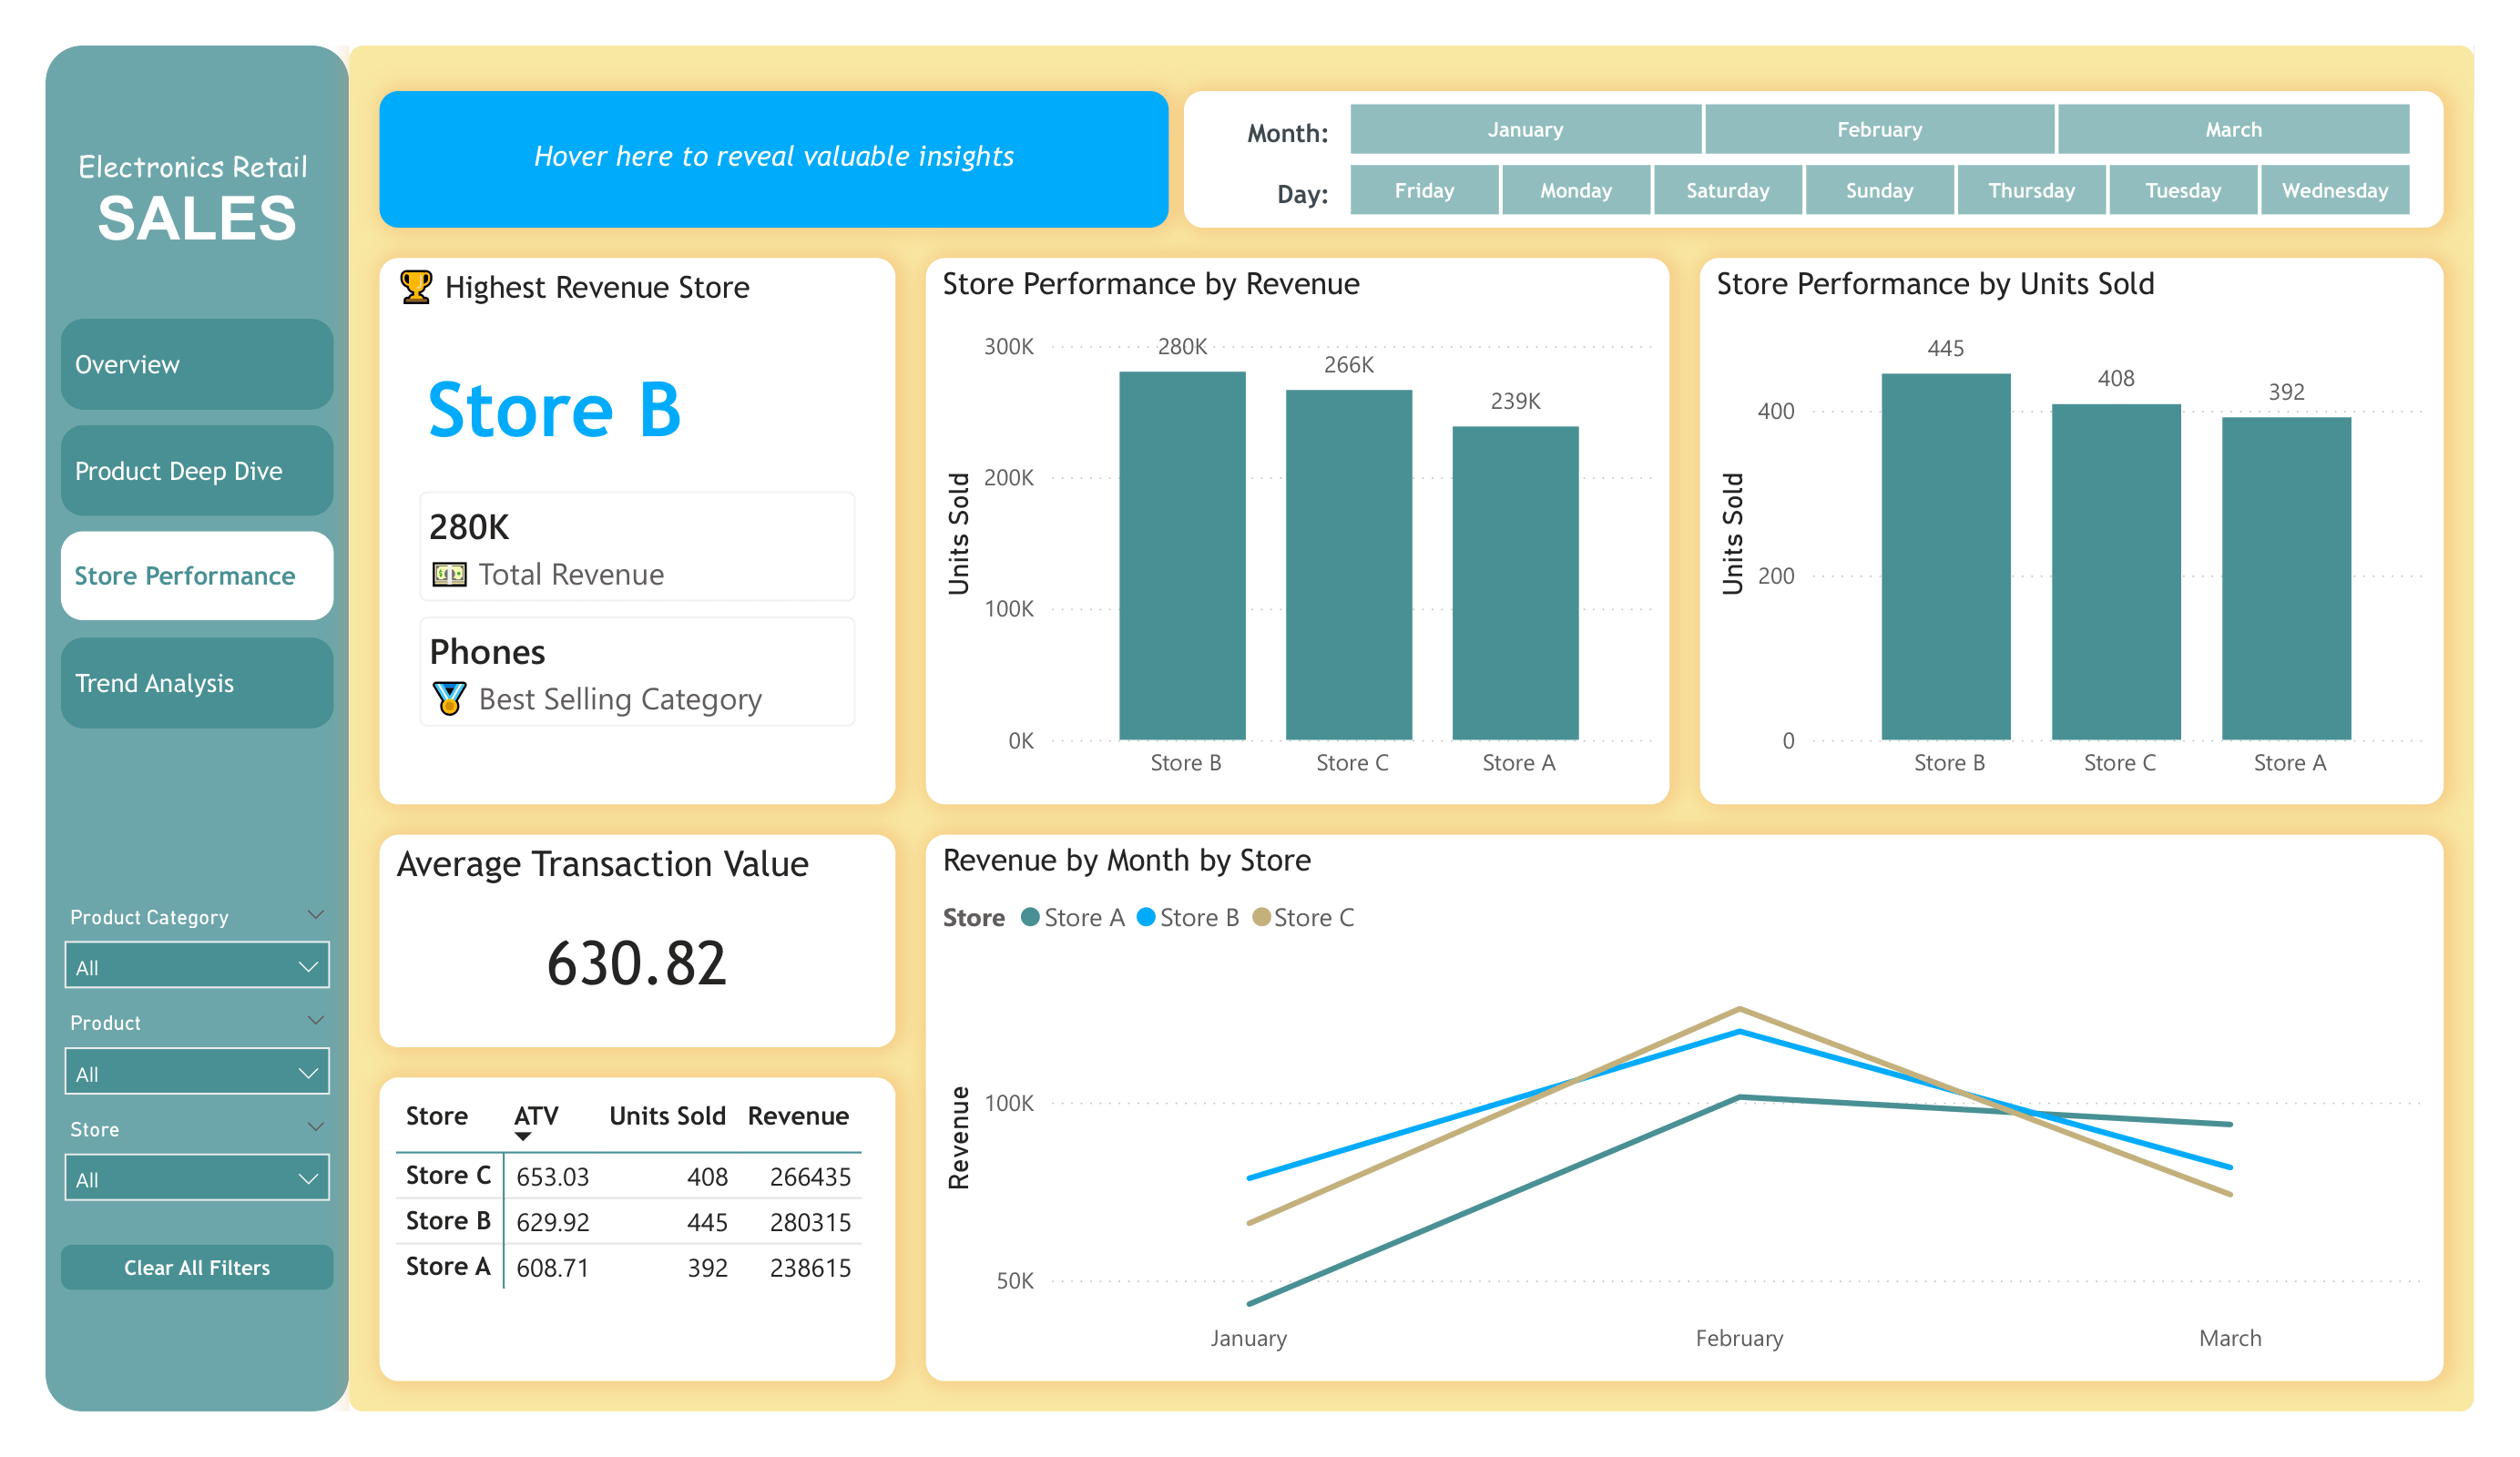

The page's visual inventory and layout, read from the dashboard file:
{"tool":"powerbi","page":{"name":"Store Performance","canvas":[1280,720],"ordinal":2},"visuals":[{"type":"group","id":"g1","title":"Group 1","box":[0,0,1280,720],"z":0},{"type":"shape","box":[0,0,160,720],"z":0,"group":"g1"},{"type":"shape","box":[160,0,1120,720],"z":1000,"group":"g1"},{"type":"shape","box":[600,24,664,72],"z":1000,"group":"g2"},{"type":"actionButton","box":[8,256,144,47],"z":1000},{"type":"actionButton","box":[8,200,144,48],"z":2000},{"type":"actionButton","box":[8,312,144,48],"z":3000},{"type":"slicer","fields":{"Values":["Sales_Q12025.Product Category"]},"box":[0,448,160,56],"z":4000},{"type":"slicer","fields":{"Values":["Sales_Q12025.Product"]},"box":[0,504,160,56],"z":5000},{"type":"actionButton","box":[8,144,144,48],"z":6000},{"type":"actionButton","box":[8,632,144,24],"z":7000},{"type":"slicer","fields":{"Values":["Dates.Date.Variation.Date Hierarchy.Month"]},"box":[667.4,23.8,602.5,40],"z":8000,"group":"g2"},{"type":"slicer","fields":{"Values":["Sales_Q12025.Store"]},"box":[0,560,160,56],"z":8000},{"type":"textbox","box":[609.8,31.3,72,32],"z":9000,"group":"g2"},{"type":"clusteredColumnChart","title":"Store Performance by Units Sold","fields":{"Category":["RR-PRAC4 - retail_sales_q1_2025_large.Store"],"Y":["Sales_Q12025.Total Units Sold"]},"box":[872,112,392,288],"z":9000},{"type":"card","title":"Average Transaction Value","fields":{"Values":["Sales_Q12025.Avg Transaction Value"]},"box":[176,416,272,112],"z":10000},{"type":"lineChart","title":"Revenue by Month by Store","fields":{"Category":["Dates.Date.Variation.Date Hierarchy.Month"],"Series":["Sales_Q12025.Store"],"Y":["Sales_Q12025.Total Revenue"]},"box":[464,416,800,288],"z":11000},{"type":"cardVisual","title":"🏆 Highest Revenue Store","fields":{"Data":["Sales_Q12025.Total Revenue","Sales_Q12025.Store's Best Selling Category"],"Rows":["Sales_Q12025.Store"]},"box":[176,112,272,288],"z":12000},{"type":"pivotTable","fields":{"Values":["Sales_Q12025.Avg Transaction Value","Sales_Q12025.Total Units Sold","Sales_Q12025.Total Revenue"],"Rows":["Sales_Q12025.Store"]},"box":[176,544,272,160],"z":13000},{"type":"clusteredColumnChart","title":"Store Performance by Revenue","fields":{"Category":["RR-PRAC4 - retail_sales_q1_2025_large.Store"],"Y":["Sales_Q12025.Total Revenue"]},"box":[464,112,392,288],"z":14000},{"type":"card","fields":{"Values":["Sales_Q12025.InsightHint"]},"box":[176,24,416,72],"z":15000},{"type":"textbox","box":[0,48,160,80],"z":16000},{"type":"group","id":"g2","title":"Group 2","box":[600,23.8,669.9,72.2],"z":17000},{"type":"slicer","fields":{"Values":["Dates.DayOfWeek"]},"box":[667.4,55.8,602.5,40],"z":17000,"group":"g2"},{"type":"textbox","box":[617.8,63.3,64,32],"z":19000,"group":"g2"}]}

Visuals, with their boxes on the page's 1280x720 design canvas (x1, y1, x2, y2). These are canvas units, not pixel positions in the 2520x1457 screenshot, which may show the page scaled, cropped or inside an application window:
"Group 1" group: x1=0, y1=0, x2=1280, y2=720
shape: x1=0, y1=0, x2=160, y2=720
shape: x1=160, y1=0, x2=1280, y2=720
shape: x1=600, y1=24, x2=1264, y2=96
actionButton: x1=8, y1=256, x2=152, y2=303
actionButton: x1=8, y1=200, x2=152, y2=248
actionButton: x1=8, y1=312, x2=152, y2=360
slicer - Sales_Q12025.Product Category: x1=0, y1=448, x2=160, y2=504
slicer - Sales_Q12025.Product: x1=0, y1=504, x2=160, y2=560
actionButton: x1=8, y1=144, x2=152, y2=192
actionButton: x1=8, y1=632, x2=152, y2=656
slicer - Dates.Date.Variation.Date Hierarchy.Month: x1=667, y1=24, x2=1270, y2=64
slicer - Sales_Q12025.Store: x1=0, y1=560, x2=160, y2=616
textbox: x1=610, y1=31, x2=682, y2=63
"Store Performance by Units Sold" clusteredColumnChart: x1=872, y1=112, x2=1264, y2=400
"Average Transaction Value" card: x1=176, y1=416, x2=448, y2=528
"Revenue by Month by Store" lineChart: x1=464, y1=416, x2=1264, y2=704
"🏆 Highest Revenue Store" cardVisual: x1=176, y1=112, x2=448, y2=400
pivotTable - Sales_Q12025.Avg Transaction Value x Sales_Q12025.Total Units Sold: x1=176, y1=544, x2=448, y2=704
"Store Performance by Revenue" clusteredColumnChart: x1=464, y1=112, x2=856, y2=400
card - Sales_Q12025.InsightHint: x1=176, y1=24, x2=592, y2=96
textbox: x1=0, y1=48, x2=160, y2=128
"Group 2" group: x1=600, y1=24, x2=1270, y2=96
slicer - Dates.DayOfWeek: x1=667, y1=56, x2=1270, y2=96
textbox: x1=618, y1=63, x2=682, y2=95
